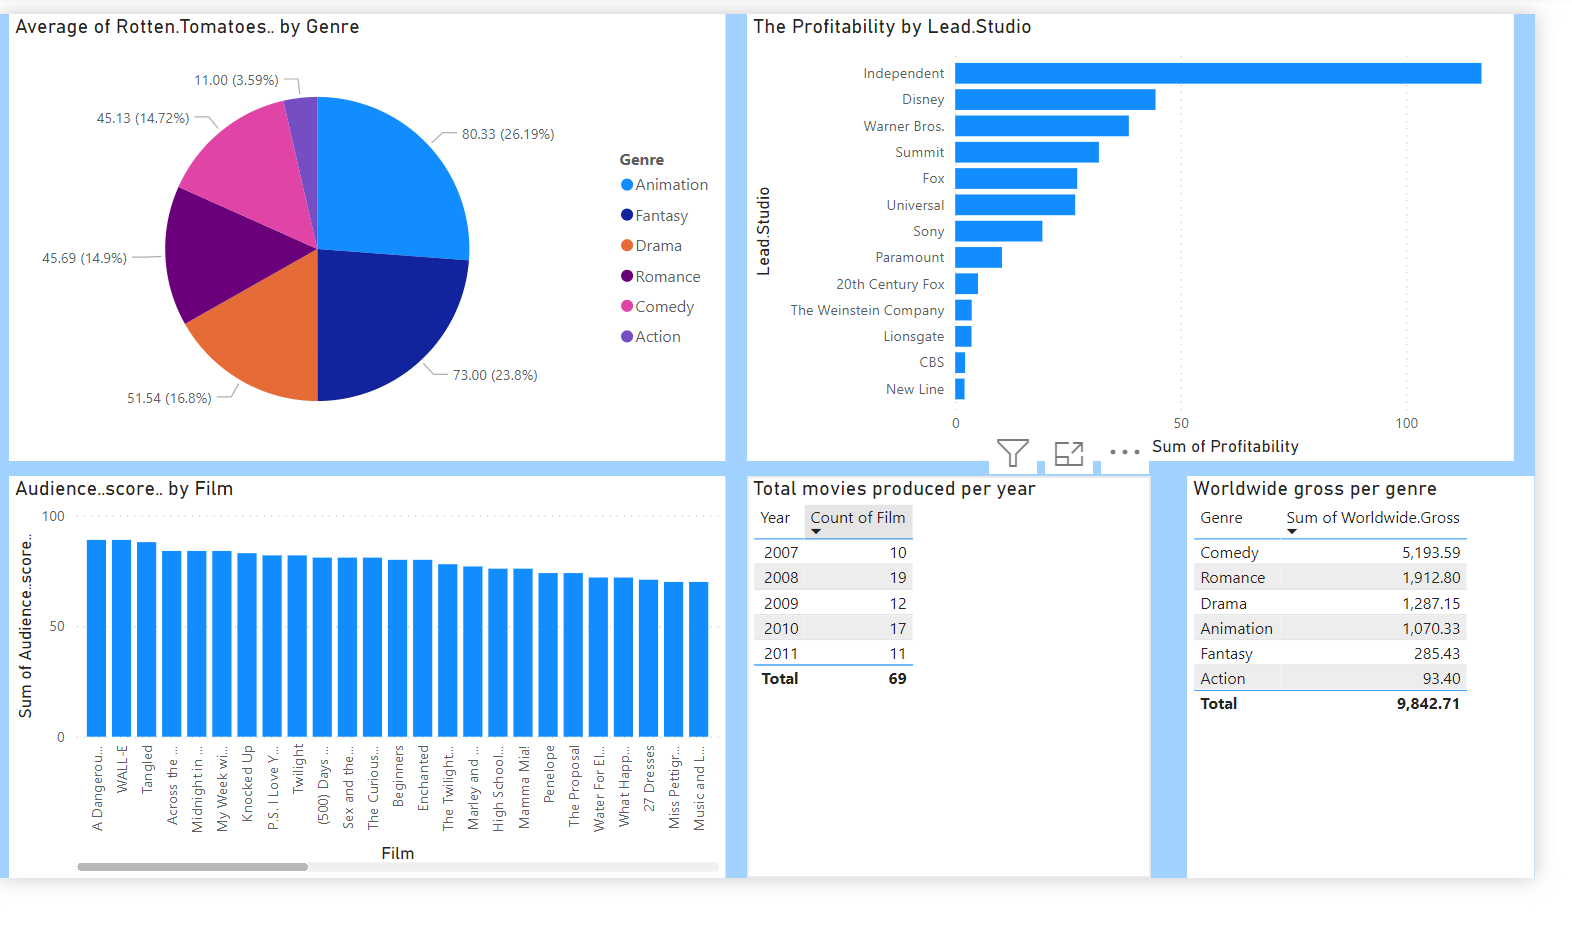

Layout of this report page (visuals, bound fields, positions):
{"tool":"powerbi","page":{"name":"Page 1","canvas":[1280,720],"ordinal":0},"visuals":[{"type":"pieChart","fields":{"Category":["clean_df.Genre"],"Y":["Avg(clean_df.Rotten.Tomatoes..)"]},"box":[9.1,0,596.8,372.6],"z":0},{"type":"clusteredColumnChart","title":" Audience..score.. by Film","fields":{"Y":["Sum(clean_df.Audience..score..)"],"Category":["clean_df.Film"]},"box":[9.1,384.8,596.8,334.8],"z":1},{"type":"barChart","title":"The Profitability by Lead.Studio","fields":{"Category":["clean_df.Lead.Studio"],"Y":["Sum(clean_df.Profitability)"]},"box":[624.1,0,639.2,372.6],"z":2},{"type":"tableEx","title":"Worldwide gross per genre","fields":{"Values":["clean_df.Genre","Sum(clean_df.Worldwide.Gross)"]},"box":[990.7,384.8,289.3,334.8],"z":3},{"type":"tableEx","title":"Total movies produced per year","fields":{"Values":["clean_df.Year","clean_df.Film"]},"box":[624.1,384.8,336.3,334.8],"z":4}]}

Visuals, with their boxes on the page's 1280x720 design canvas (x1, y1, x2, y2). These are canvas units, not pixel positions in the 1572x945 screenshot, which may show the page scaled, cropped or inside an application window:
pieChart - clean_df.Genre x Avg(clean_df.Rotten.Tomatoes..): Rect(9, 0, 606, 373)
" Audience..score.. by Film" clusteredColumnChart: Rect(9, 385, 606, 720)
"The Profitability by Lead.Studio" barChart: Rect(624, 0, 1263, 373)
"Worldwide gross per genre" tableEx: Rect(991, 385, 1280, 720)
"Total movies produced per year" tableEx: Rect(624, 385, 960, 720)
